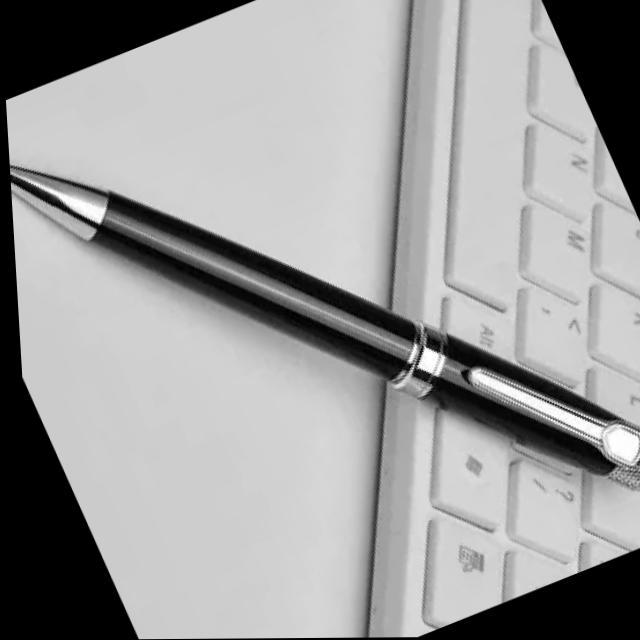pencil: (10, 156, 640, 488)
